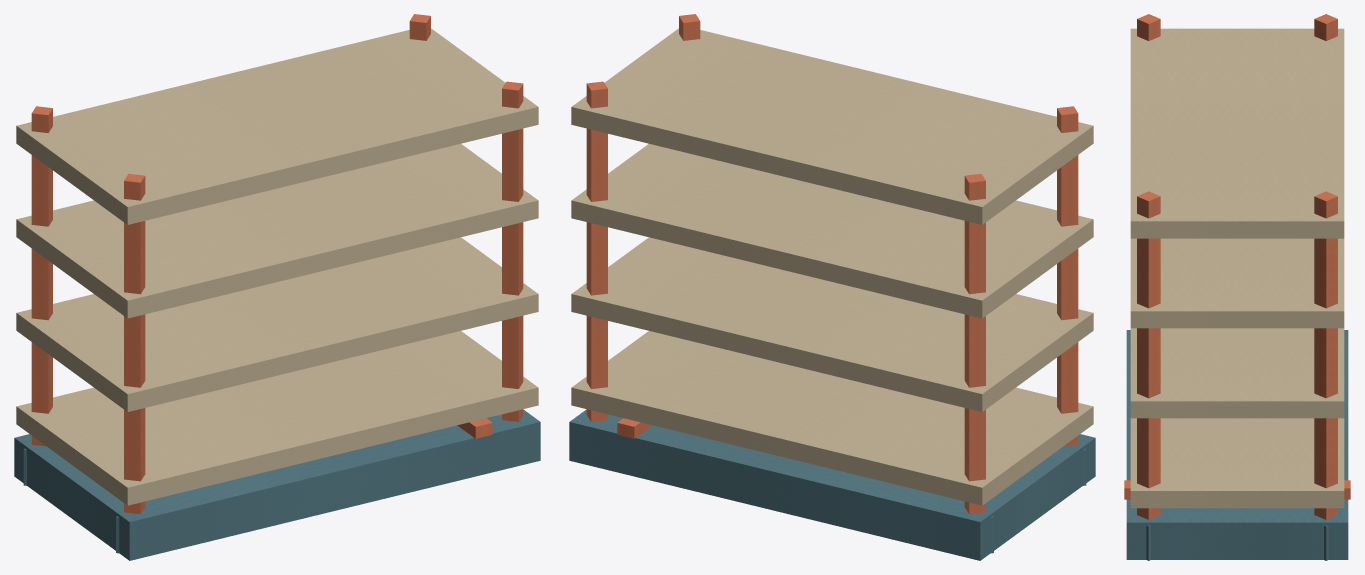
File: atlas100-s048-a06.lod2.glb
3 renders of one model, left to right at view 1: azimuth 30°, elevation 25°; view 2: azimuth 150°, elevation 25°; view 3: azimuth 270°, elevation 25°, orthographic. The views are drawn at different scales.
Parts seen in each view (by area): view 1: atlas100-s048-a06:part-014, atlas100-s048-a06:part-013, atlas100-s048-a06:part-011, atlas100-s048-a06:part-012, atlas100-s048-a06:part-000, atlas100-s048-a06:part-005, atlas100-s048-a06:part-009, atlas100-s048-a06:part-003; view 2: atlas100-s048-a06:part-014, atlas100-s048-a06:part-013, atlas100-s048-a06:part-011, atlas100-s048-a06:part-012, atlas100-s048-a06:part-000, atlas100-s048-a06:part-003, atlas100-s048-a06:part-007, atlas100-s048-a06:part-005; view 3: atlas100-s048-a06:part-014, atlas100-s048-a06:part-011, atlas100-s048-a06:part-012, atlas100-s048-a06:part-013, atlas100-s048-a06:part-000, atlas100-s048-a06:part-007, atlas100-s048-a06:part-009, atlas100-s048-a06:part-003, atlas100-s048-a06:part-005.
Part boxes in pixels (<box>): atlas100-s048-a06:part-014: <box>16,28,538,224</box>; atlas100-s048-a06:part-013: <box>16,144,538,318</box>; atlas100-s048-a06:part-011: <box>16,331,538,505</box>; atlas100-s048-a06:part-012: <box>16,237,538,411</box>; atlas100-s048-a06:part-000: <box>14,409,540,560</box>; atlas100-s048-a06:part-005: <box>124,173,145,514</box>; atlas100-s048-a06:part-009: <box>502,81,523,421</box>; atlas100-s048-a06:part-003: <box>31,106,52,446</box>; atlas100-s048-a06:part-014: <box>571,28,1093,224</box>; atlas100-s048-a06:part-013: <box>571,144,1093,318</box>; atlas100-s048-a06:part-011: <box>571,331,1093,505</box>; atlas100-s048-a06:part-012: <box>571,237,1093,411</box>; atlas100-s048-a06:part-000: <box>569,409,1095,560</box>; atlas100-s048-a06:part-003: <box>964,173,985,514</box>; atlas100-s048-a06:part-007: <box>586,81,607,421</box>; atlas100-s048-a06:part-005: <box>1057,106,1078,446</box>; atlas100-s048-a06:part-014: <box>1130,28,1344,238</box>; atlas100-s048-a06:part-011: <box>1130,418,1344,508</box>; atlas100-s048-a06:part-012: <box>1130,328,1344,418</box>; atlas100-s048-a06:part-013: <box>1130,238,1344,328</box>; atlas100-s048-a06:part-000: <box>1126,330,1348,559</box>; atlas100-s048-a06:part-007: <box>1314,191,1337,519</box>; atlas100-s048-a06:part-009: <box>1137,191,1160,519</box>; atlas100-s048-a06:part-003: <box>1314,14,1337,40</box>; atlas100-s048-a06:part-005: <box>1137,14,1160,40</box>.
Bounding box in the file's own units: 2.91 × 2.48 × 1.43.
Materials: 3 (3 with a texture image).
